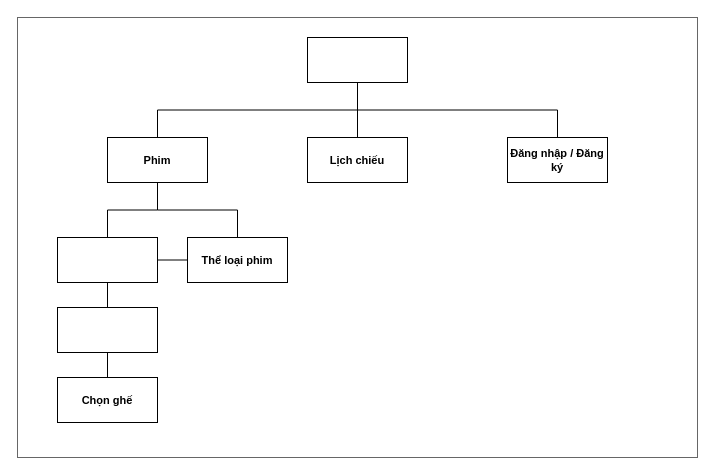
The diagram is 715 pixels wide and 475 high, and some of its shapes have lost their labels. The shapes that lost their labels are listed below. From the top down, each one's centre as x and y in pixels, then its label:
the point at 357,59: Trang chủ
the point at 107,259: Danh sách phim
the point at 107,329: Chi tiết phim
